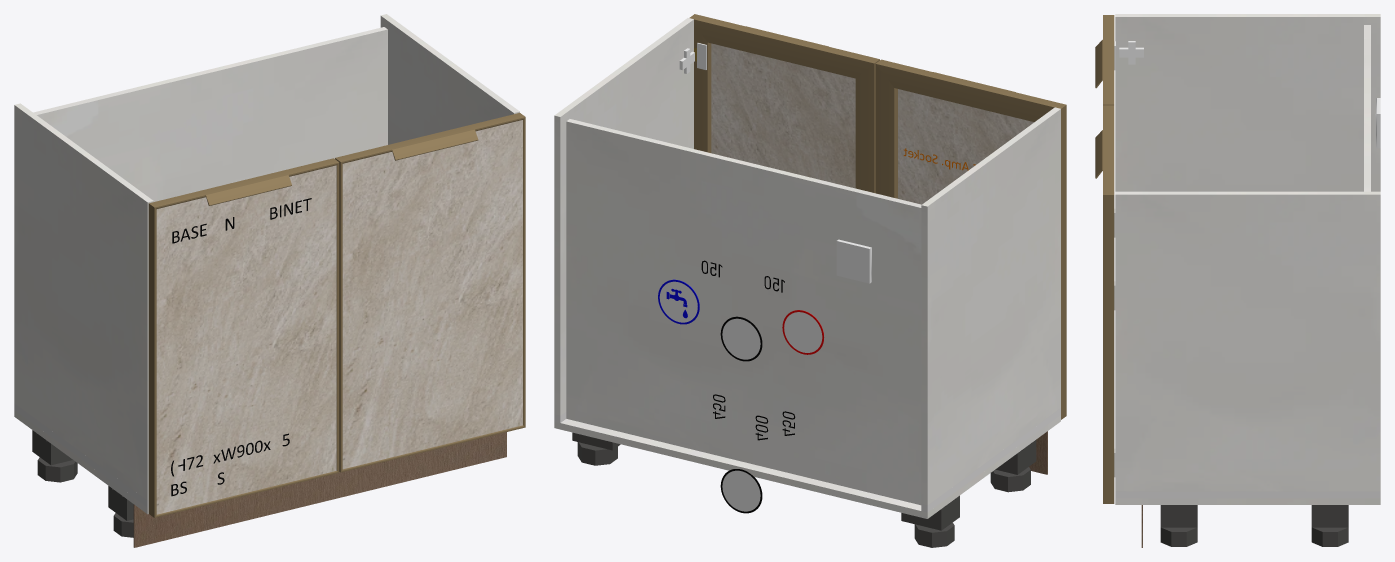
Rendered from BC-SK-TTS-ST-XXX-2HS-XXX-900-720-560-15.glb.
3 views of the same model, side by side, from view 1: azimuth 30°, elevation 25°; view 2: azimuth 150°, elevation 25°; view 3: azimuth 270°, elevation 25° (orthographic).
Visible parts, largest first — view 1: Object_node_17, Object_node, TP_node_0, TP, Object_node_84, TP_node_1, Extrusion_node_4, ExtrSplGeo_node, ExtrSplGeo, Extrusion_node_11, Extrusion_node_2, Object_node_36 (+8 smaller); view 2: TP, TP_node_0, Object_node_17, TP_node_1, Object_node, TP_node, Extrusion_node_2, Extrusion_node_11, ExtrSplGeo, ExtrSplGeo_node, Extrusion_node, Extrusion_node_4 (+14 smaller); view 3: TP_node_1, TP_node_0, Extrusion_node_9, Object_node_38, TP_node, TP, Plate_node, Plate_node_1, ExtrSplGeo, ExtrSplGeo_node, Foot_node_1, Foot_node (+1 smaller).
Boxes of the visible parts, x1,y1,x2,y2 form: Object_node_17: (342, 120, 522, 469); Object_node: (156, 165, 336, 514); TP_node_0: (14, 103, 153, 500); TP: (33, 27, 387, 201); Object_node_84: (133, 432, 506, 547); TP_node_1: (380, 14, 519, 144); Extrusion_node_4: (148, 203, 156, 517); ExtrSplGeo_node: (386, 125, 478, 160); ExtrSplGeo: (200, 170, 291, 205); Extrusion_node_11: (335, 158, 342, 472); Extrusion_node_2: (336, 163, 339, 472); Object_node_36: (14, 403, 148, 507); TP: (566, 119, 921, 505); TP_node_0: (921, 107, 1060, 505); Object_node_17: (711, 43, 855, 188); TP_node_1: (554, 18, 693, 415); Object_node: (898, 89, 1034, 204); TP_node: (554, 415, 1060, 518); Extrusion_node_2: (875, 64, 897, 198); Extrusion_node_11: (855, 59, 879, 193); ExtrSplGeo: (926, 72, 1015, 115); ExtrSplGeo_node: (740, 26, 828, 70); Extrusion_node: (876, 59, 1066, 121); Extrusion_node_4: (1061, 105, 1066, 419); TP_node_1: (1115, 191, 1380, 491); TP_node_0: (1115, 14, 1380, 191); Extrusion_node_9: (1103, 195, 1114, 503); Object_node_38: (1115, 491, 1380, 498); TP_node: (1115, 498, 1380, 504); TP: (1364, 25, 1370, 191); Plate_node: (1311, 505, 1348, 527); Plate_node_1: (1160, 505, 1197, 527); ExtrSplGeo: (1095, 39, 1114, 88); ExtrSplGeo_node: (1095, 130, 1114, 178); Foot_node_1: (1160, 527, 1197, 546); Foot_node: (1311, 527, 1348, 546).
Size of what is drawn, in the model's own units: 0.9 by 0.82 by 0.6.
Materials: 13 (3 with a texture image).
